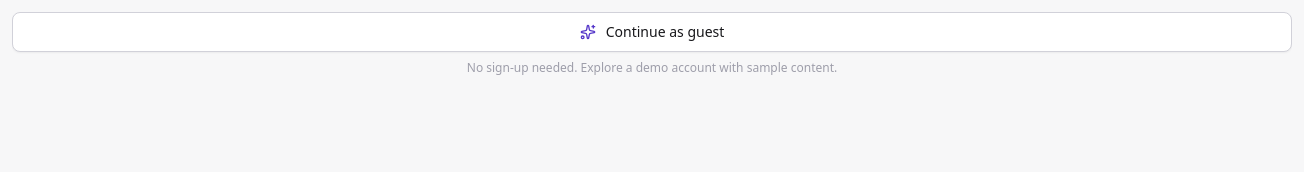
Test: GuestButton › reports a connection problem
Click the button "Continue as guest" at (652, 32), box [12,12,1292,52]
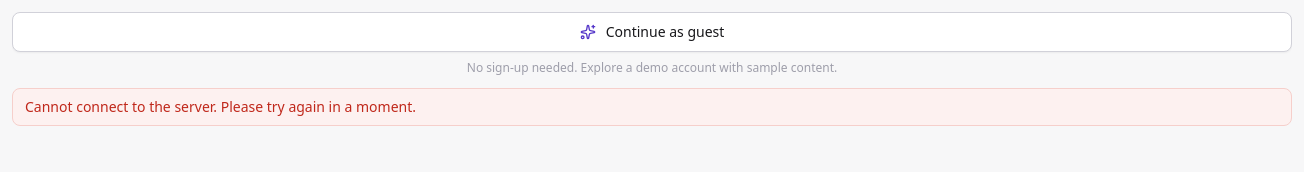
Result: the message shows "Cannot connect to the server" at [25,97,416,116]
